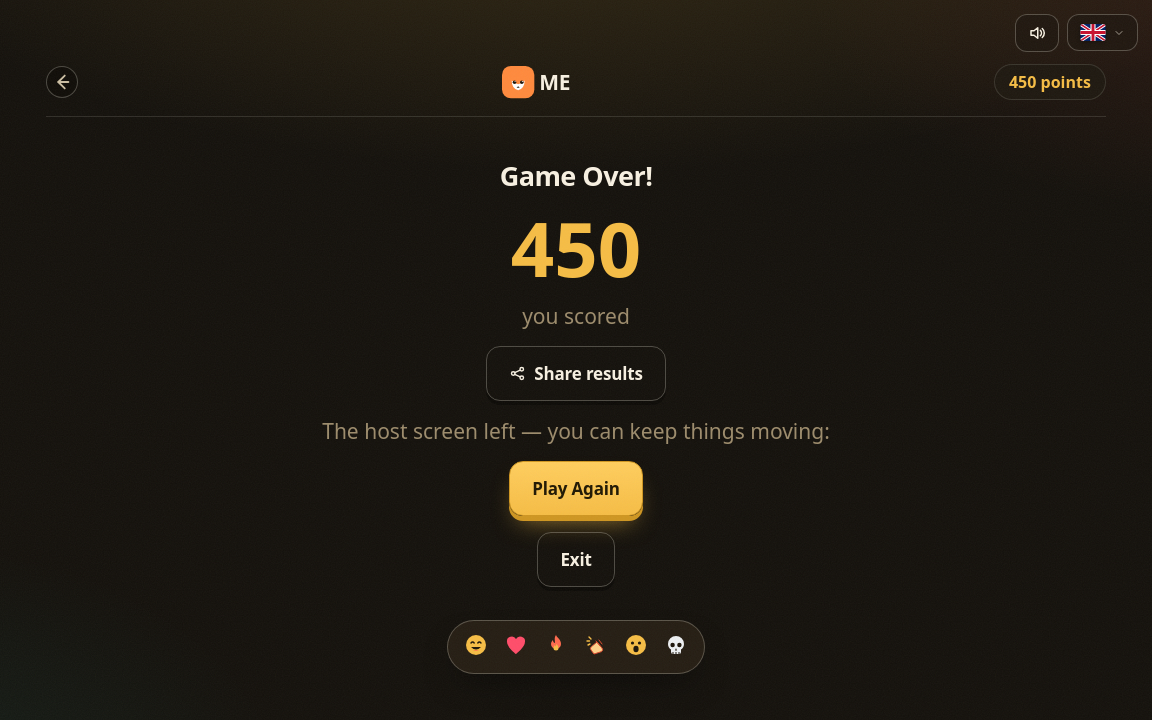
Test: PlayerScreen endgame › reports a refused rematch instead of failing silently
What coordinates should you click on to do the following:
click the button "Play Again"
I would click on:
 (576, 489)
Its box is [509,462,643,516].
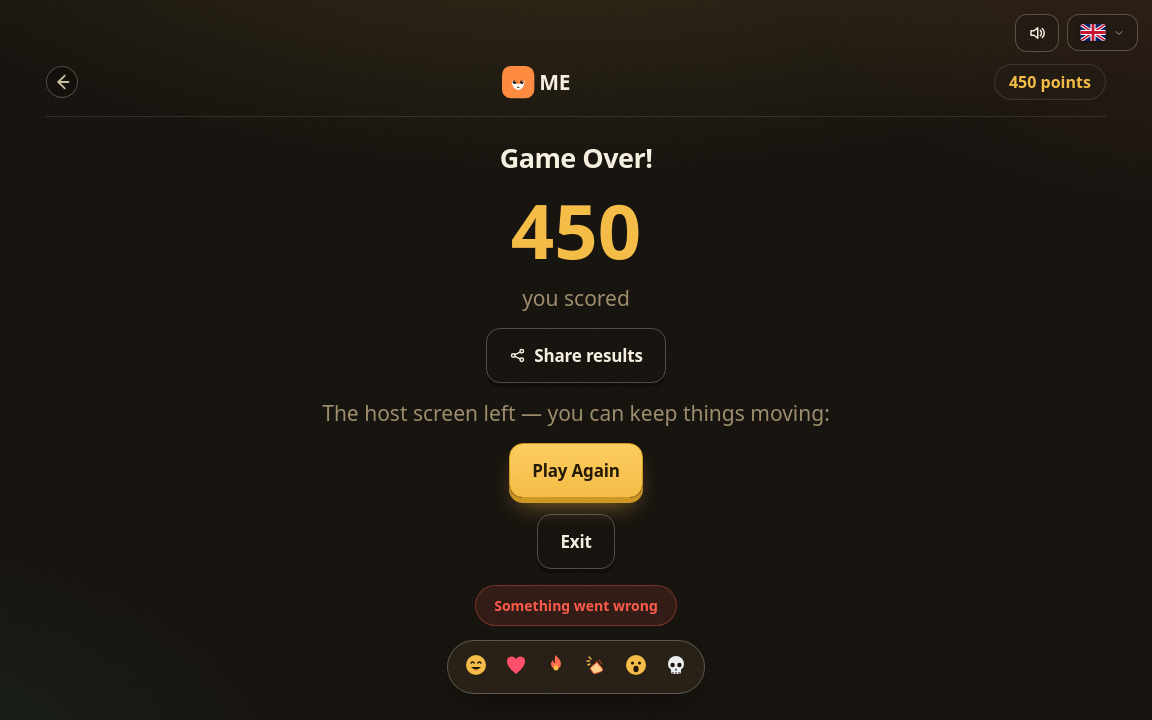
Result: the message "Something went wrong" is shown at [475,585,677,626]
